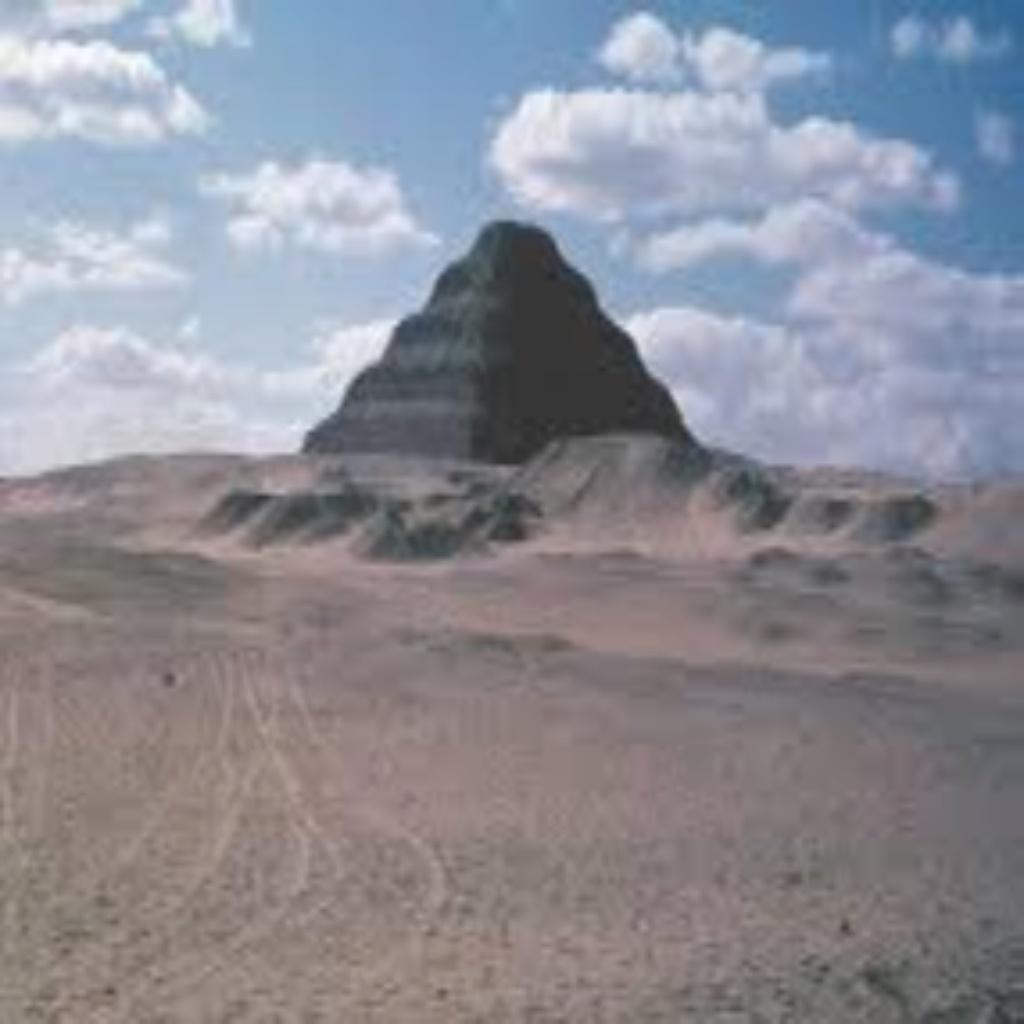Pyramid of Djoser: (297, 204, 702, 472)
